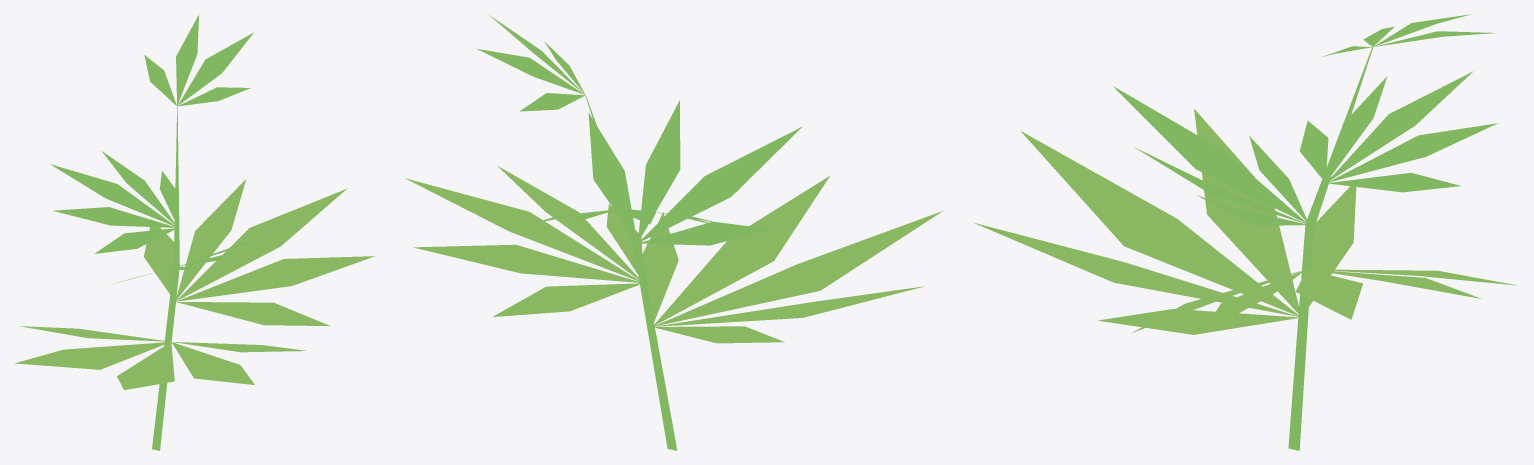
The model's file is Plant_i_OneS_03.fbx.
3 renders of one model, left to right at view 1: azimuth 30°, elevation 25°; view 2: azimuth 150°, elevation 25°; view 3: azimuth 270°, elevation 25°, orthographic. The views are drawn at different scales.
Visible parts, largest first — view 1: Plant_i_OneS_03; view 2: Plant_i_OneS_03; view 3: Plant_i_OneS_03.
Part boxes in pixels (bbox=[...]): Plant_i_OneS_03: bbox=[15, 14, 375, 450]; Plant_i_OneS_03: bbox=[405, 14, 942, 450]; Plant_i_OneS_03: bbox=[973, 14, 1517, 450].
Bounding box in the file's own units: 0.6546 × 0.5825 × 0.571.
